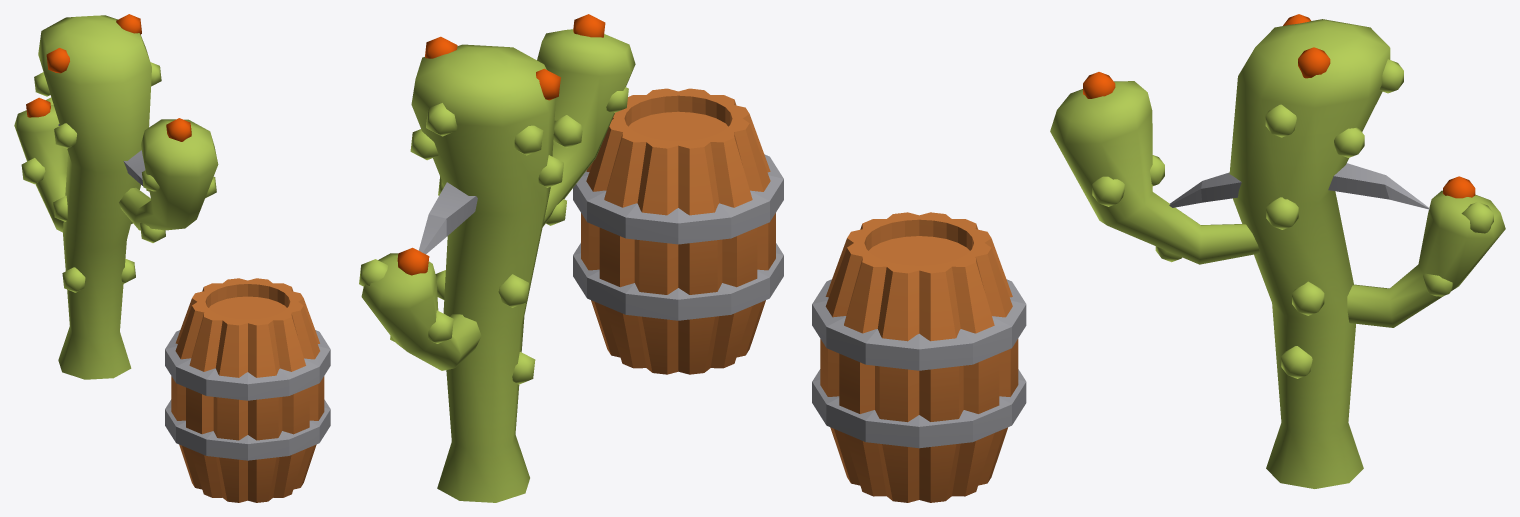
File: learn_blender.fbx
3 renders of one model, left to right at view 1: azimuth 30°, elevation 25°; view 2: azimuth 150°, elevation 25°; view 3: azimuth 270°, elevation 25°, orthographic. The views are drawn at different scales.
Parts seen in each view (by area): view 1: 仙人掌, 木桶, 矿工稿; view 2: 仙人掌, 木桶, 矿工稿; view 3: 仙人掌, 木桶, 矿工稿.
Boxes of the visible parts, <box> form: 仙人掌: <box>14,14,218,379</box>; 木桶: <box>165,278,330,502</box>; 矿工稿: <box>58,124,145,185</box>; 仙人掌: <box>359,14,635,502</box>; 木桶: <box>573,88,783,374</box>; 矿工稿: <box>419,182,477,254</box>; 仙人掌: <box>1050,14,1505,488</box>; 木桶: <box>812,212,1026,502</box>; 矿工稿: <box>1169,163,1429,209</box>.
Size of the model in its own units: 113 by 260 by 366.
Materials: 1 (1 with a texture image).
